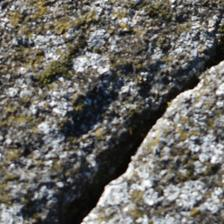Crack: (28, 26, 192, 197)
